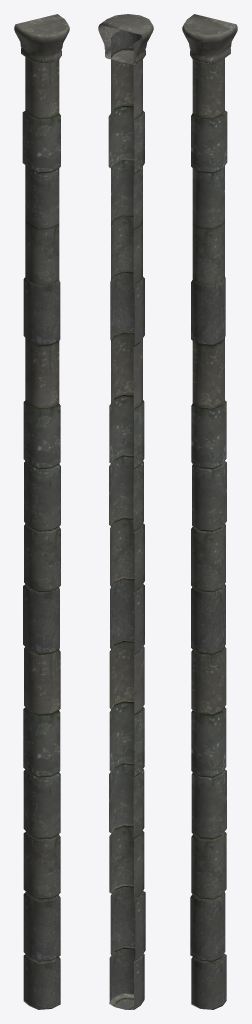
3 renders of one model, left to right at view 1: azimuth 30°, elevation 25°; view 2: azimuth 150°, elevation 25°; view 3: azimuth 330°, elevation 25°, orthographic.
Parts seen in each view (by area): view 1: SM_DeathTemple_Detail_1x14_01_v1_LOD0; view 2: SM_DeathTemple_Detail_1x14_01_v1_LOD0; view 3: SM_DeathTemple_Detail_1x14_01_v1_LOD0.
Boxes of the visible parts, <box> form: SM_DeathTemple_Detail_1x14_01_v1_LOD0: <box>14,14,69,1009</box>; SM_DeathTemple_Detail_1x14_01_v1_LOD0: <box>98,14,153,1009</box>; SM_DeathTemple_Detail_1x14_01_v1_LOD0: <box>182,14,237,1009</box>.
Size of the model in its own units: 0.6679 by 14.05 by 0.5316.
Materials: 1 (1 with a texture image).
